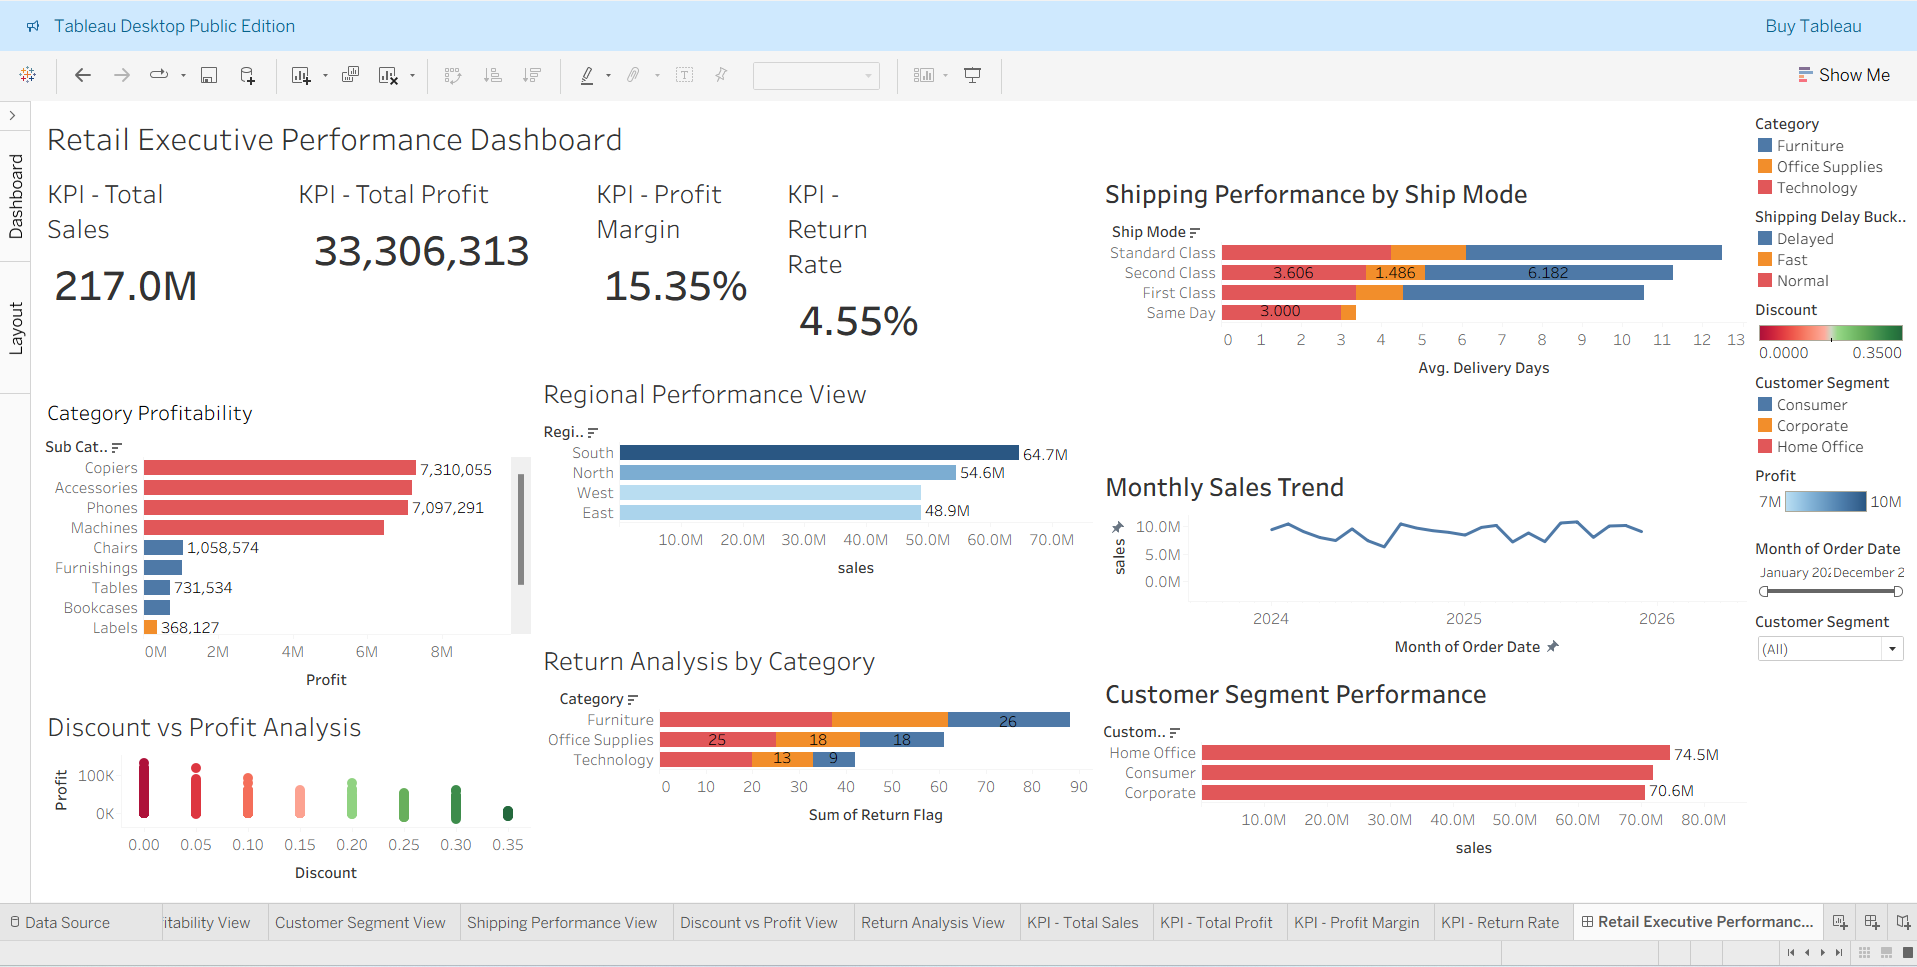

The dashboard page shown, as its layout file describes it:
{"tool":"tableau","page":{"name":"Retail Executive Performance Dashboard","canvas":[1000,1000],"units":"permille","ordinal":0},"visuals":[{"type":"title","box":[4.2,10,906.8,73.7]},{"type":"legend","title":"Category Profitability View","param":"[federated.15yg4991xn6i3n1fv7gwd17u5qou].[none:category:nk]","box":[911,10,84.8,116.1]},{"type":"worksheet","title":"KPI - Total Sales","mark":"Automatic","box":[4.2,83.7,132.8,249.7]},{"type":"worksheet","title":"KPI - Total Profit","mark":"Automatic","box":[137.1,83.7,158,249.7]},{"type":"worksheet","title":"KPI - Profit Margin","mark":"Automatic","box":[295,83.7,101.3,249.7]},{"type":"worksheet","title":"KPI - Return Rate","mark":"Automatic","box":[396.3,83.7,168.1,249.7]},{"type":"worksheet","title":"Shipping Performance View","mark":"Automatic","rows":["ship_mode"],"cols":["delivery_days"],"box":[564.4,83.7,346.6,365.8]},{"type":"legend","title":"Shipping Performance View","param":"[federated.15yg4991xn6i3n1fv7gwd17u5qou].[none:Calculation_1319706012667909:nk]","box":[911,126.1,84.8,116.1]},{"type":"legend","title":"Discount vs Profit View","param":"[federated.15yg4991xn6i3n1fv7gwd17u5qou].[none:discount:qk]","box":[911,242.2,84.8,91.1]},{"type":"worksheet","title":"Category Profitability View","mark":"Automatic","rows":["sub_category"],"cols":["profit"],"box":[4.2,333.3,262.6,415.7]},{"type":"worksheet","title":"Regional Performance View","mark":"Automatic","rows":["region"],"cols":["sales"],"box":[266.8,333.3,297.6,333.3]},{"type":"legend","title":"Return Analysis View","param":"[federated.15yg4991xn6i3n1fv7gwd17u5qou].[none:customer_segment:nk]","box":[911,333.4,84.8,116.1]},{"type":"worksheet","title":"Sales Trend View","mark":"Automatic","rows":["sales"],"cols":["order_date"],"box":[564.4,449.4,346.6,258.4]},{"type":"legend","title":"Regional Performance View","param":"[federated.15yg4991xn6i3n1fv7gwd17u5qou].[sum:profit:qk]","box":[911,449.5,84.8,91.1]},{"type":"filter","title":"Sales Trend View","param":"[federated.15yg4991xn6i3n1fv7gwd17u5qou].[tmn:order_date:qk]","box":[911,540.6,84.8,91.1]},{"type":"filter","title":"Customer Segment View","param":"[federated.15yg4991xn6i3n1fv7gwd17u5qou].[none:customer_segment:nk]","box":[911,631.7,84.8,76.2]},{"type":"worksheet","title":"Return Analysis View","mark":"Automatic","rows":["category"],"cols":["return_flag"],"box":[266.8,666.7,297.6,323.3]},{"type":"worksheet","title":"Customer Segment View","mark":"Automatic","rows":["customer_segment"],"cols":["sales"],"box":[564.4,707.9,346.6,282.1]},{"type":"filter","title":"Regional Performance View","param":"[federated.15yg4991xn6i3n1fv7gwd17u5qou].[none:region:nk]","box":[911,707.9,84.8,188.5]},{"type":"worksheet","title":"Discount vs Profit View","mark":"Circle","rows":["profit"],"cols":["discount"],"box":[4.2,749.1,262.6,241]}]}

Visuals, with their boxes on the dashboard's canvas, which has no fixed pixel size, in thousandths of its width and height (x1, y1, x2, y2). These are canvas units, not pixel positions in the 1917x967 screenshot, which may show the page scaled, cropped or inside an application window:
title: (left=4, top=10, right=911, bottom=84)
"Category Profitability View" legend: (left=911, top=10, right=996, bottom=126)
"KPI - Total Sales" worksheet: (left=4, top=84, right=137, bottom=333)
"KPI - Total Profit" worksheet: (left=137, top=84, right=295, bottom=333)
"KPI - Profit Margin" worksheet: (left=295, top=84, right=396, bottom=333)
"KPI - Return Rate" worksheet: (left=396, top=84, right=564, bottom=333)
"Shipping Performance View" worksheet: (left=564, top=84, right=911, bottom=450)
"Shipping Performance View" legend: (left=911, top=126, right=996, bottom=242)
"Discount vs Profit View" legend: (left=911, top=242, right=996, bottom=333)
"Category Profitability View" worksheet: (left=4, top=333, right=267, bottom=749)
"Regional Performance View" worksheet: (left=267, top=333, right=564, bottom=667)
"Return Analysis View" legend: (left=911, top=333, right=996, bottom=450)
"Sales Trend View" worksheet: (left=564, top=449, right=911, bottom=708)
"Regional Performance View" legend: (left=911, top=450, right=996, bottom=541)
"Sales Trend View" filter: (left=911, top=541, right=996, bottom=632)
"Customer Segment View" filter: (left=911, top=632, right=996, bottom=708)
"Return Analysis View" worksheet: (left=267, top=667, right=564, bottom=990)
"Customer Segment View" worksheet: (left=564, top=708, right=911, bottom=990)
"Regional Performance View" filter: (left=911, top=708, right=996, bottom=896)
"Discount vs Profit View" worksheet (Circle marks): (left=4, top=749, right=267, bottom=990)
